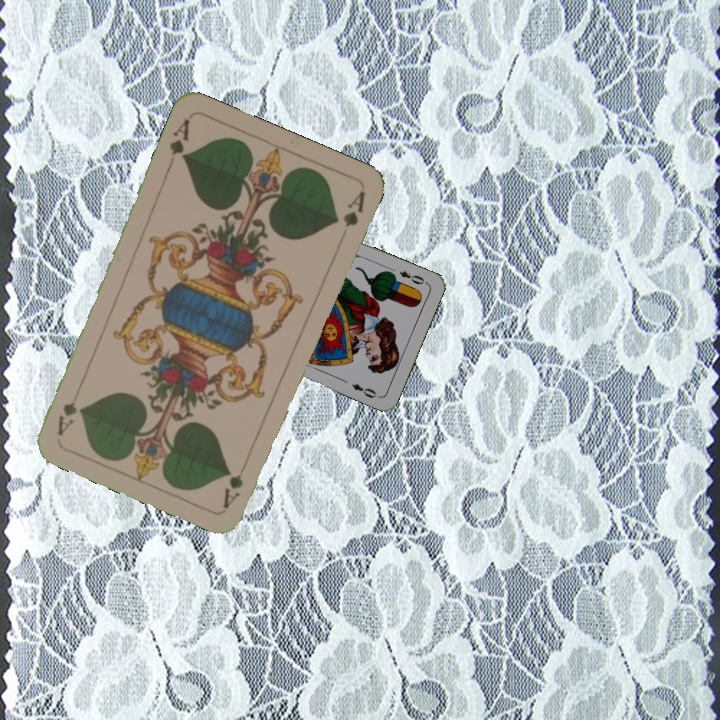EO: (395, 267, 430, 287)
GA: (163, 115, 193, 171), (218, 470, 246, 510)
